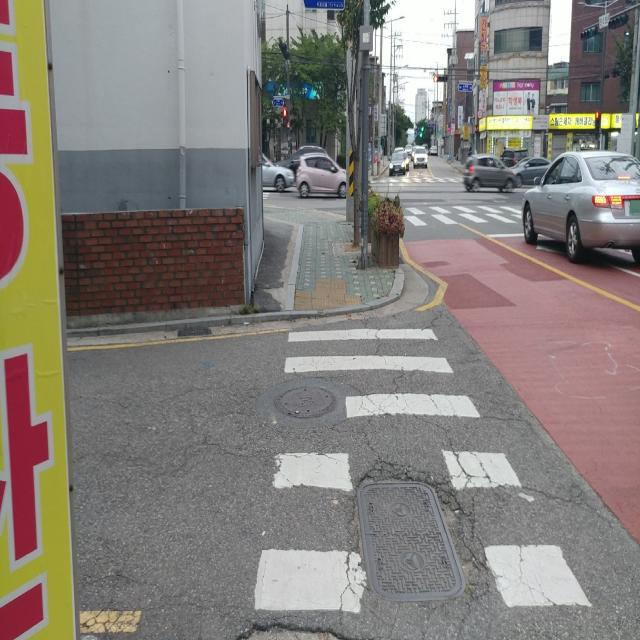횡단보도: (254, 327, 593, 612), (404, 206, 523, 227)
